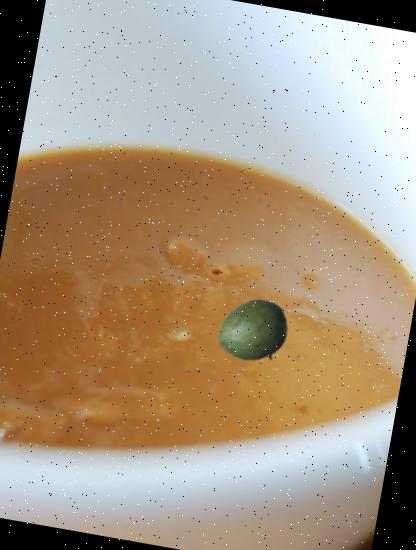Mango: (210, 290, 296, 376)
